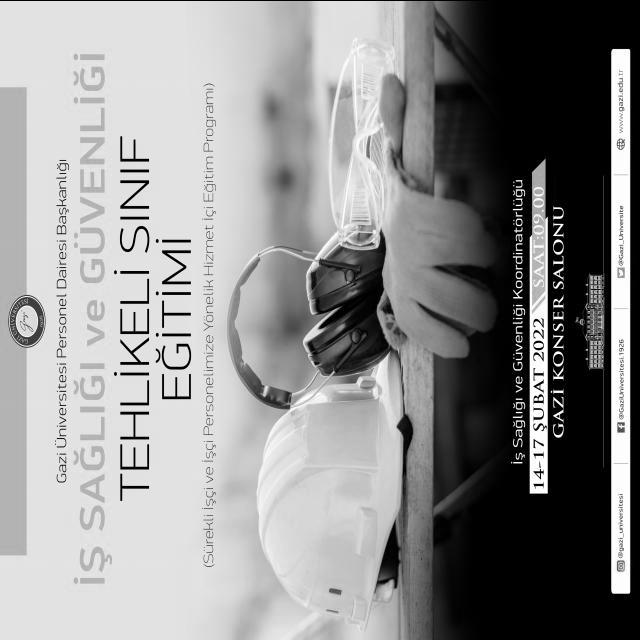construction helmet: (258, 353, 410, 629)
